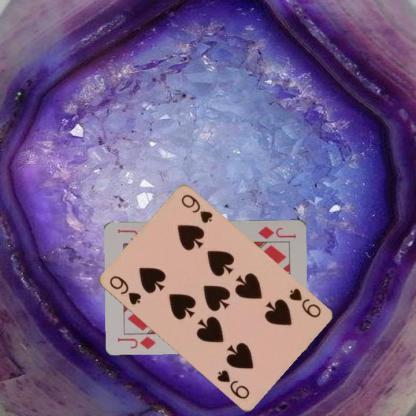9s: (286, 286, 322, 320), (106, 273, 142, 306)
Jd: (256, 224, 298, 240), (115, 334, 157, 350)
